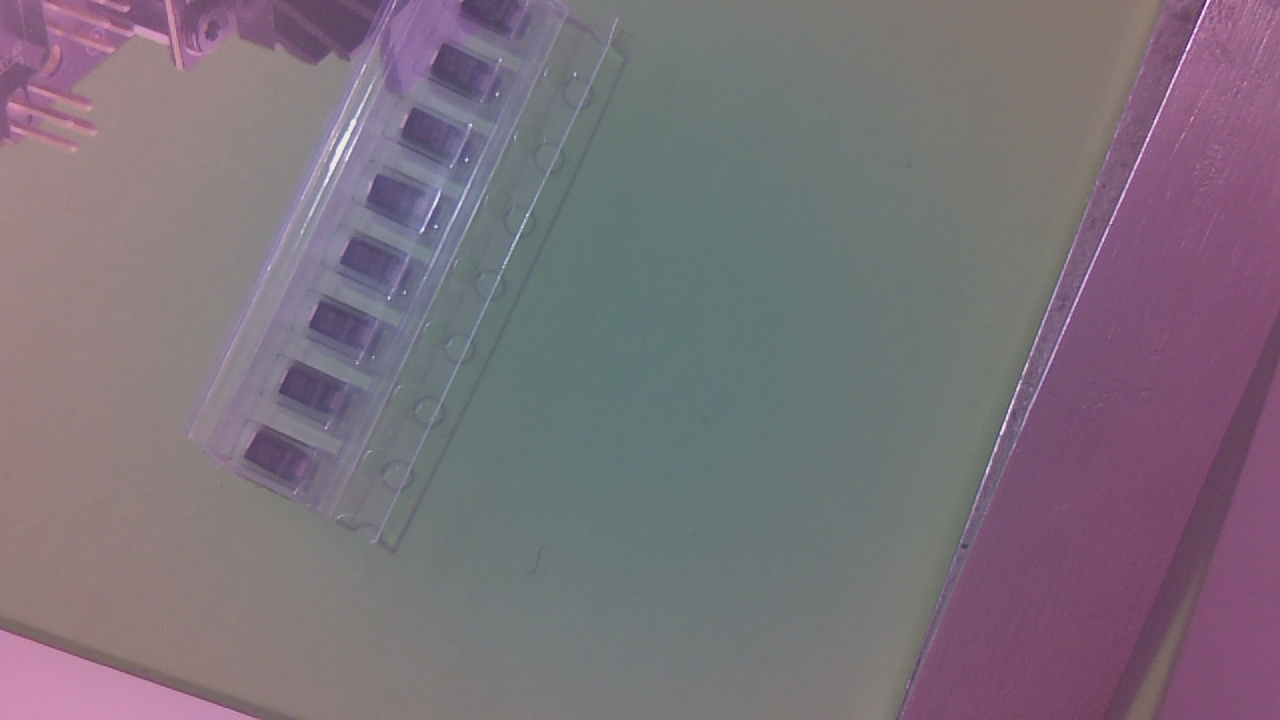Diode: (429, 49, 506, 104), (248, 428, 314, 491), (279, 367, 350, 418), (311, 304, 382, 354), (402, 110, 466, 162), (368, 177, 431, 228), (342, 239, 405, 287), (461, 6, 526, 36)
